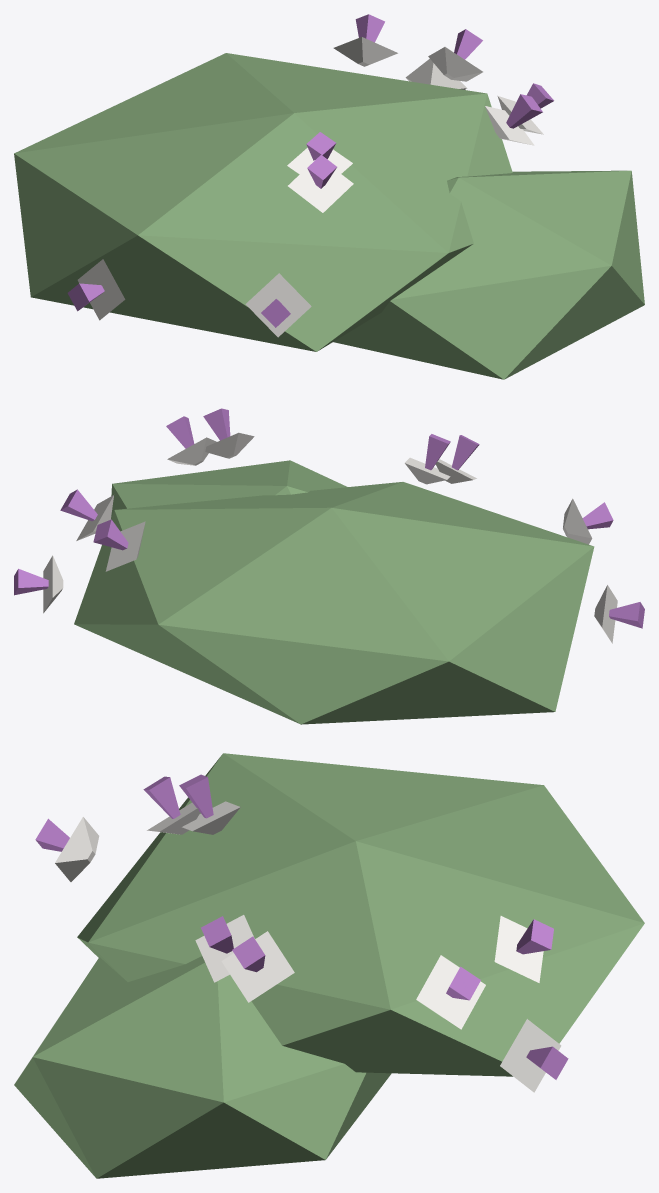
The model's file is caper.glb.
3 renders of one model, top to bottom at view 1: azimuth 30°, elevation 25°; view 2: azimuth 150°, elevation 25°; view 3: azimuth 270°, elevation 25°, orthographic. The views are drawn at different scales.
Parts seen in each view (by area): view 1: SG_Caper; view 2: SG_Caper; view 3: SG_Caper.
Boxes of the visible parts, bbox=[...] form: SG_Caper: bbox=[14, 14, 644, 379]; SG_Caper: bbox=[14, 408, 644, 724]; SG_Caper: bbox=[14, 753, 644, 1178].
Bounding box in the file's own units: 2.1 × 0.9235 × 1.77.
